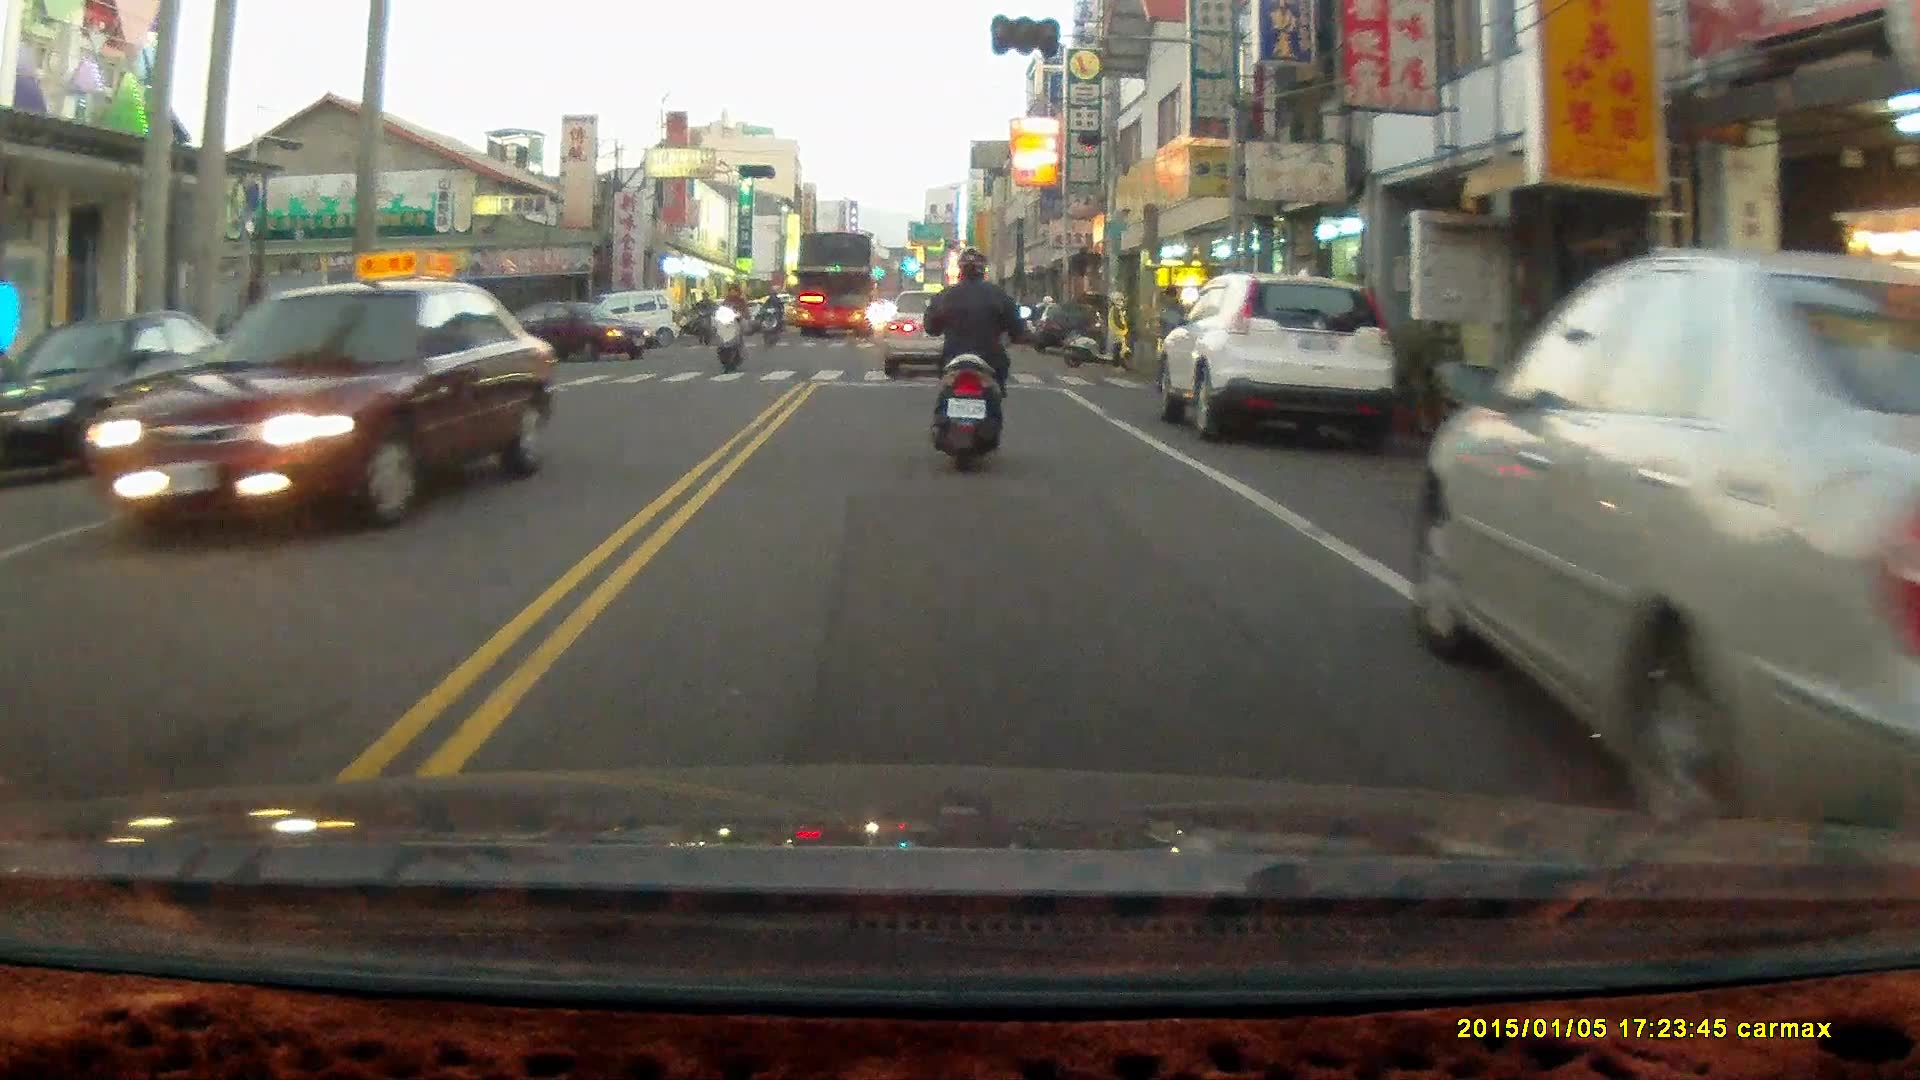pedestrian: (1155, 284, 1185, 384), (1102, 291, 1130, 374)
rider: (922, 245, 1031, 475), (710, 280, 748, 374), (690, 287, 715, 347), (760, 287, 781, 350)
vehicle: (1413, 241, 1920, 817), (95, 278, 551, 540), (1, 313, 257, 476), (1157, 275, 1399, 444), (792, 230, 880, 343), (881, 292, 987, 378), (509, 297, 648, 358)
